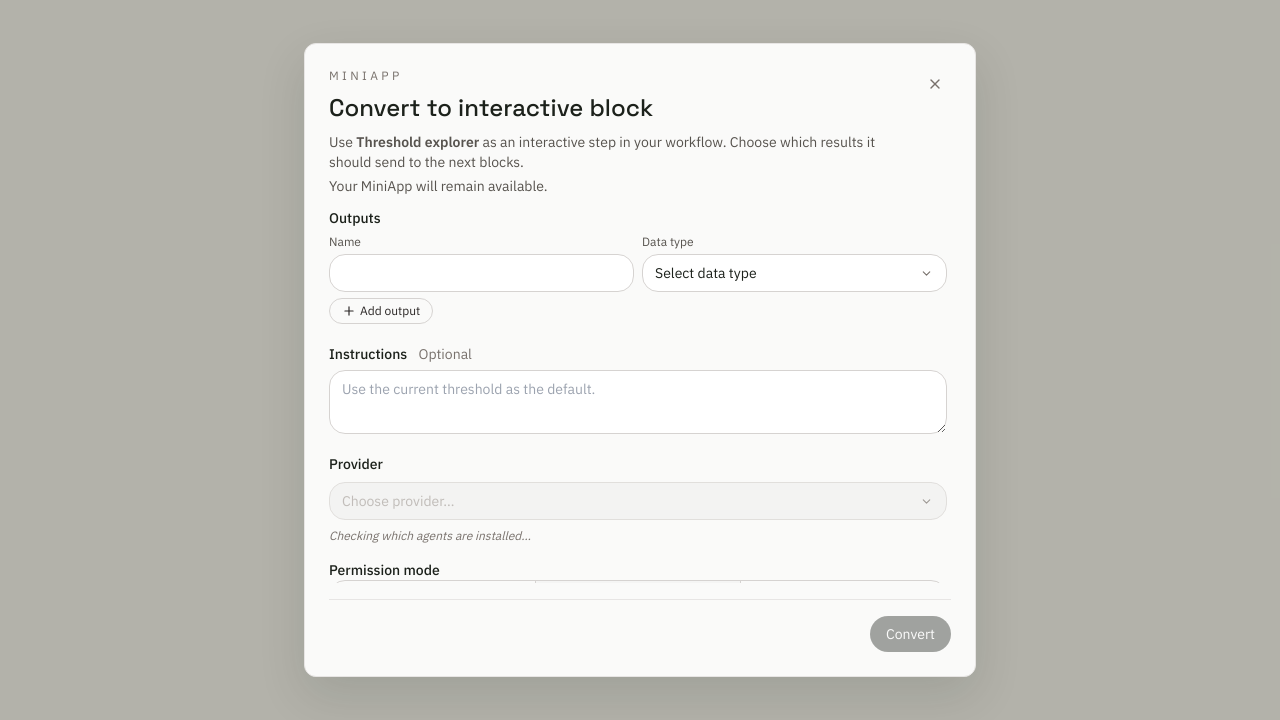
it: ConvertToBlockDialog (ADR-054 FR-036) › will not start a session with a provider that is not installed
Type "mask" into the field with test id "miniapp-convert-name-0" at (482,273), box [329,254,634,292]
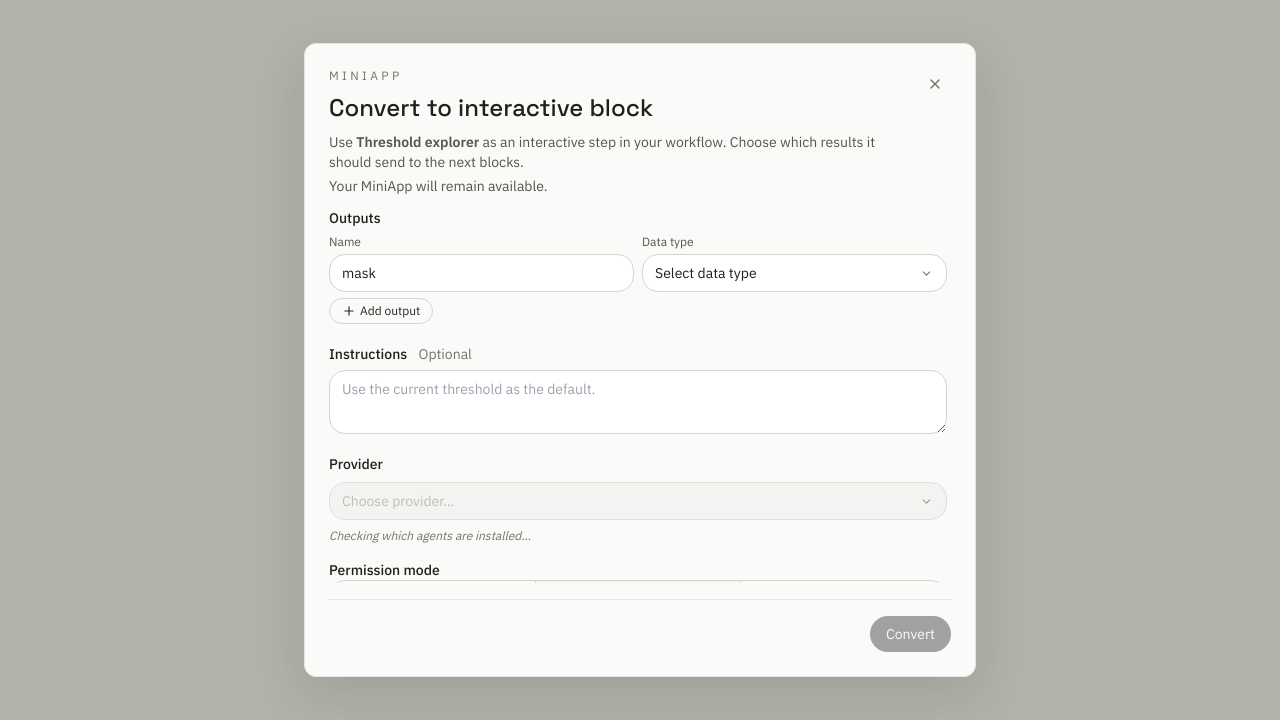
Select "Mask" in the dropdown with test id "miniapp-convert-type-0" at (794,273), box [642,254,947,292]
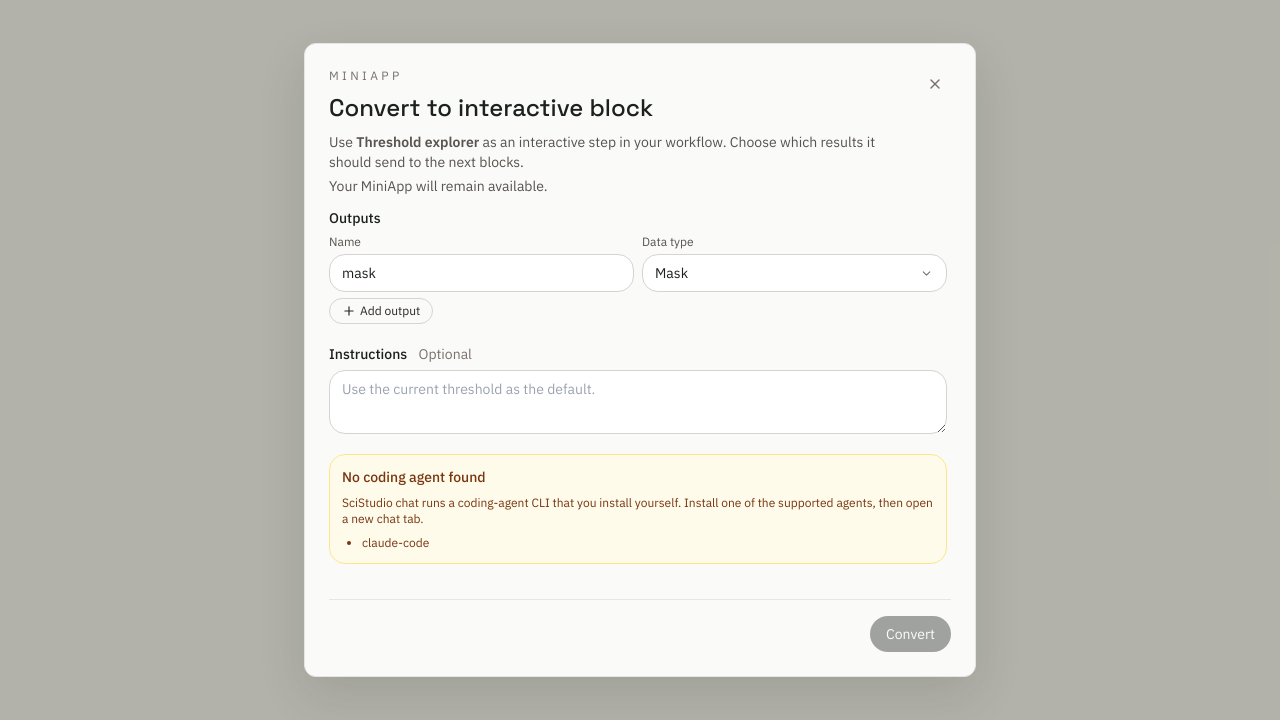
Expected: the button with test id "miniapp-convert-submit" is disabled, [870,616,951,652]
Expected: the element with test id "setup-no-providers-notice" is shown, [329,454,947,564]
